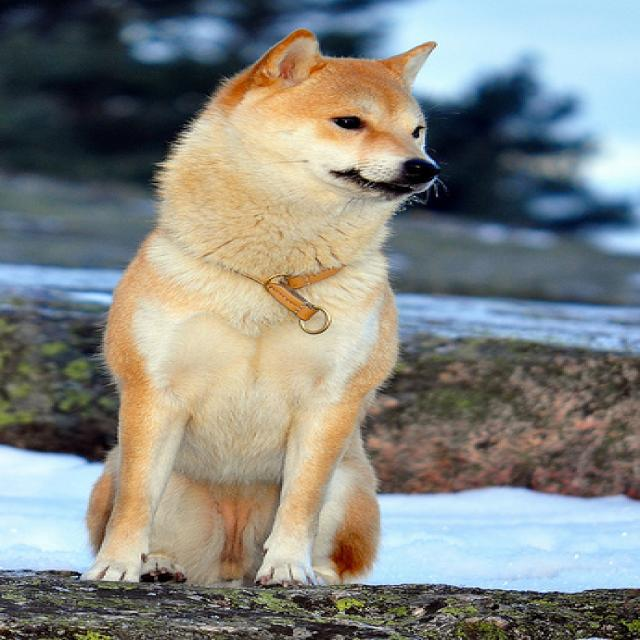dog-shiba_inu: (63, 19, 456, 598)
